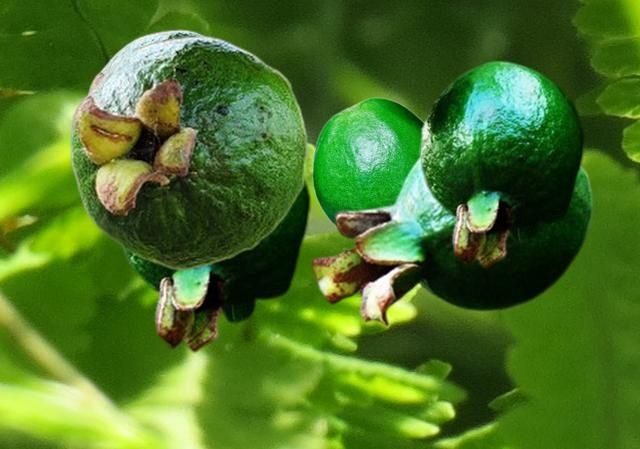guava: (68, 35, 308, 270), (310, 155, 593, 326), (419, 59, 585, 268), (118, 174, 311, 352), (311, 97, 422, 248), (86, 29, 207, 91)
